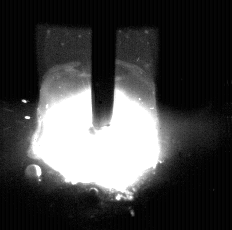arame: (92, 0, 115, 134)
poca: (30, 0, 163, 230)
